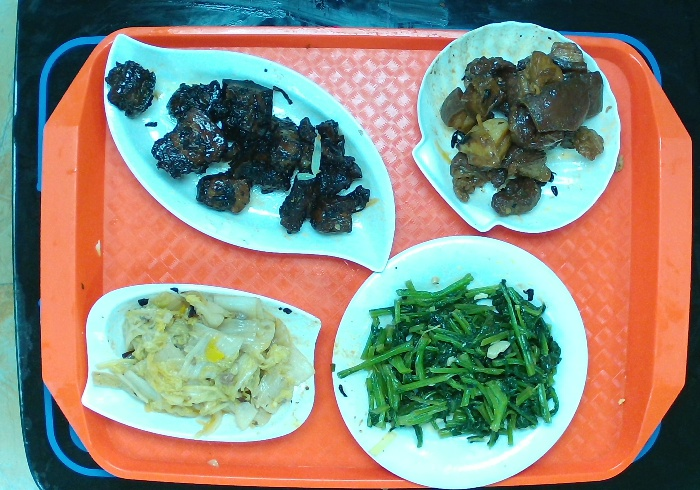RJxy-Bei_Ke_Wan: (405, 15, 628, 237)
RJxy-Jian_Jiao_Fang_Die: (74, 279, 325, 448)
RJxy-Jian_Jiao_Pan: (100, 31, 400, 279)
RJxy-Yuan_Pan: (325, 224, 593, 490)
